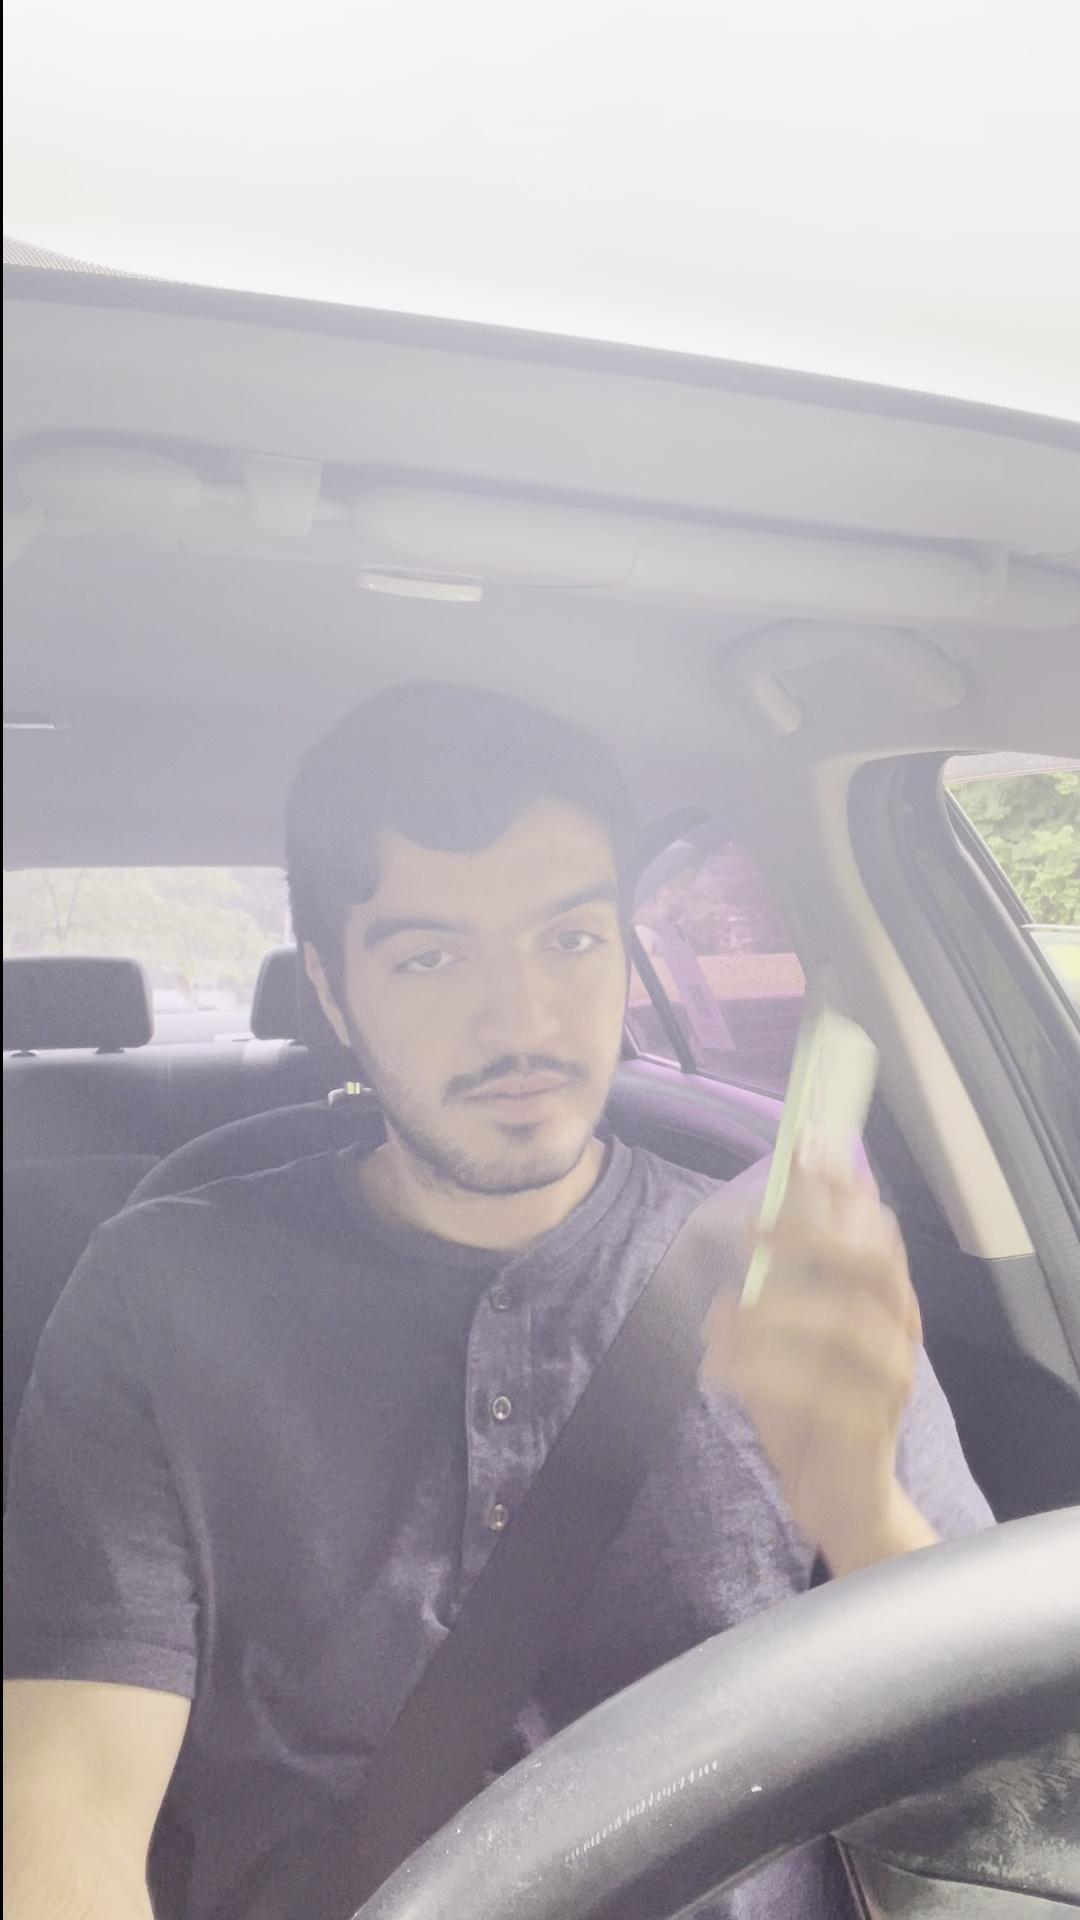mobile: (716, 1004, 927, 1331)
